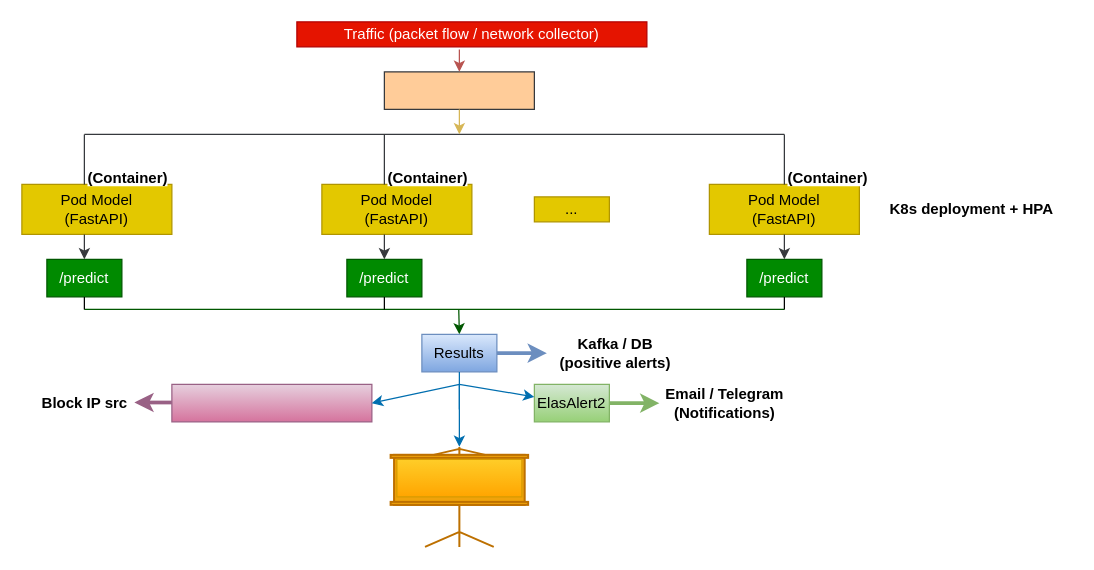
The diagram is 1094 pixels wide and 570 high, and some of its shapes have lost their labels. Here are the shapes that lost their labels. From the top down, the box of each, then its label:
(383, 71, 534, 109): Data processing (feature extraction)
(171, 383, 372, 422): pfSense API / Script python
(396, 458, 522, 497): Web interface (logs + metrics)
